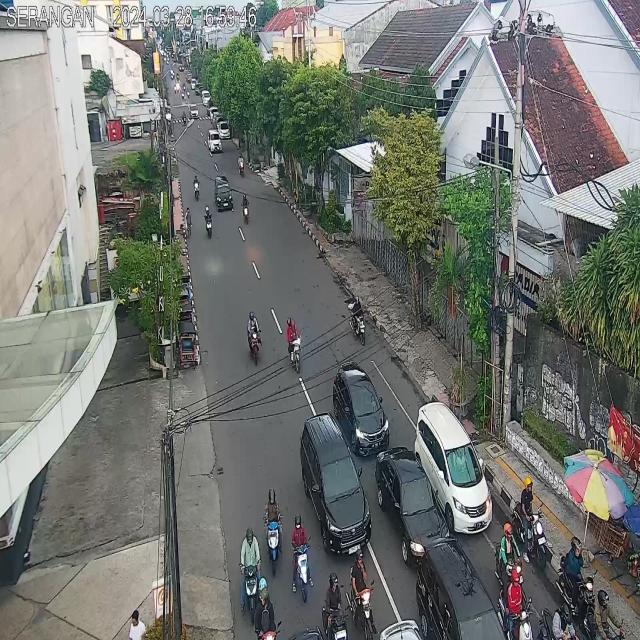car: (414, 402, 493, 537), (301, 412, 371, 556), (415, 535, 505, 640), (374, 445, 450, 568), (338, 367, 393, 457), (214, 176, 233, 212), (207, 128, 223, 154)
motorcycle: (555, 536, 598, 634), (510, 476, 547, 572), (348, 546, 378, 640), (496, 567, 534, 640), (240, 525, 264, 626), (290, 513, 315, 605), (582, 587, 624, 640), (493, 521, 523, 594), (264, 487, 284, 576), (322, 572, 348, 640), (254, 576, 279, 640), (537, 602, 578, 640), (286, 316, 302, 374), (348, 296, 366, 346), (247, 310, 262, 365), (203, 205, 213, 239), (241, 194, 250, 225), (236, 154, 245, 178), (193, 173, 200, 202)
